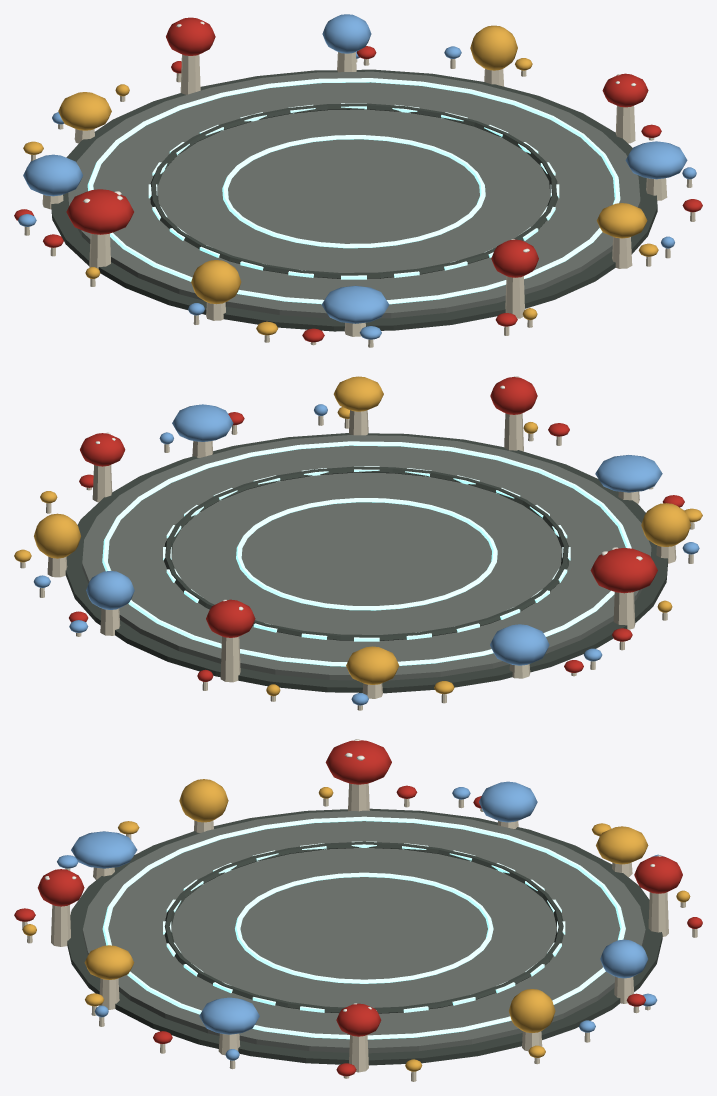
File: Build_Lobby_FairyRing.glb
The picture shows the model from 3 angles, top to bottom: view 1: azimuth 30°, elevation 25°; view 2: azimuth 150°, elevation 25°; view 3: azimuth 270°, elevation 25°; orthographic projection. The views are drawn at different scales.
Parts seen in each view (by area): view 1: Build_Lobby_FairyRing; view 2: Build_Lobby_FairyRing; view 3: Build_Lobby_FairyRing.
Part boxes in pixels (box(x1,y1,x2,y2)): Build_Lobby_FairyRing: box(14, 14, 702, 347); Build_Lobby_FairyRing: box(14, 376, 702, 710); Build_Lobby_FairyRing: box(14, 739, 702, 1081).
Size of the model in its own units: 23.76 by 2.91 by 24.48.
